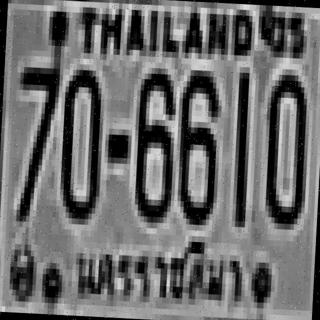N00: (249, 49, 319, 246), (54, 55, 112, 244)
N01: (224, 60, 262, 240)
N06: (124, 52, 184, 238), (174, 57, 229, 235)
N07: (3, 56, 62, 228)
P30: (58, 231, 256, 315)
